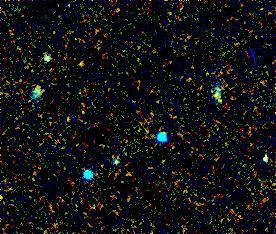star: (69, 49, 99, 79)
